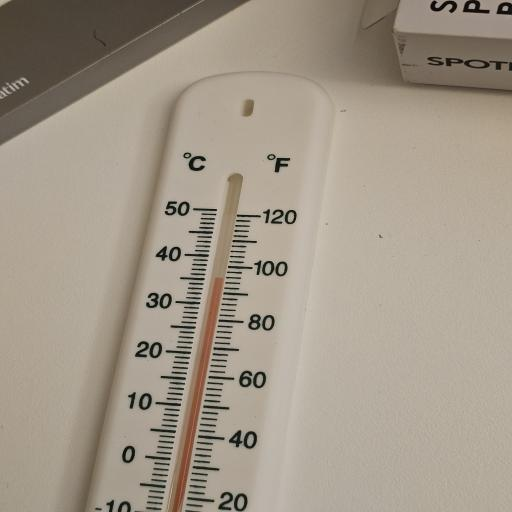thermometer: (85, 70, 336, 512)
